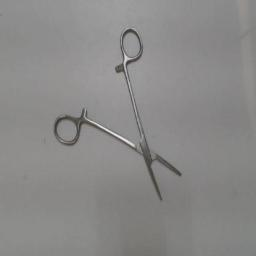Mayo Needle Holder: (51, 23, 191, 211)
